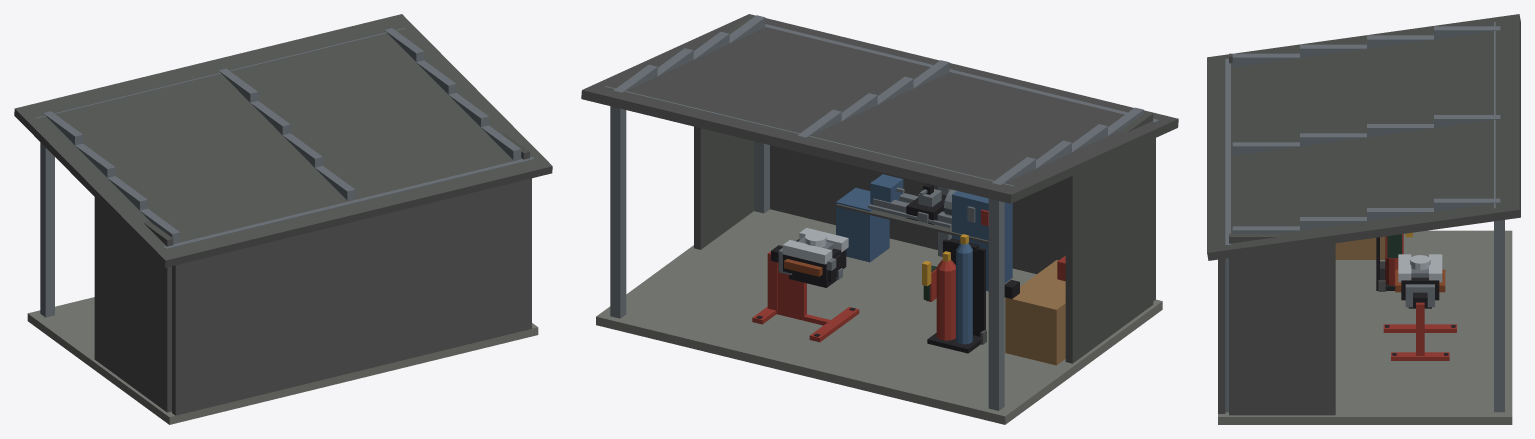
Rendered from camp_workshop_3.glb.
3 renders of one model, left to right at view 1: azimuth 30°, elevation 25°; view 2: azimuth 150°, elevation 25°; view 3: azimuth 270°, elevation 25°, orthographic. The views are drawn at different scales.
Visible parts, largest first — view 1: camp_workshop_3; view 2: camp_workshop_3; view 3: camp_workshop_3.
Part boxes in pixels (bbox=[...]): camp_workshop_3: bbox=[14, 14, 552, 424]; camp_workshop_3: bbox=[581, 14, 1178, 424]; camp_workshop_3: bbox=[1207, 14, 1520, 424].
Size of what is drawn, in the model's own units: 6.3 by 3.3 by 4.27.
Materials: 2 (2 with a texture image).
